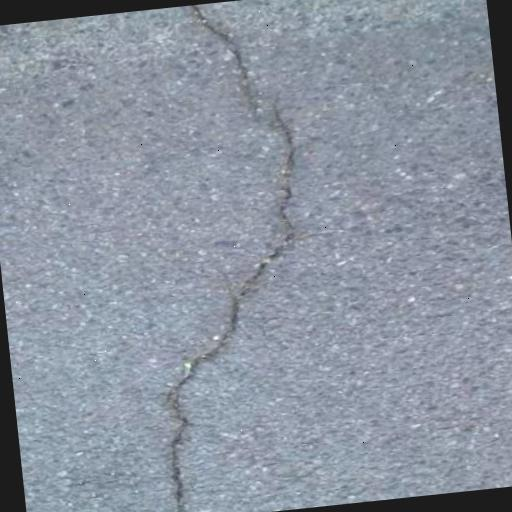spalling: (148, 4, 311, 512)
